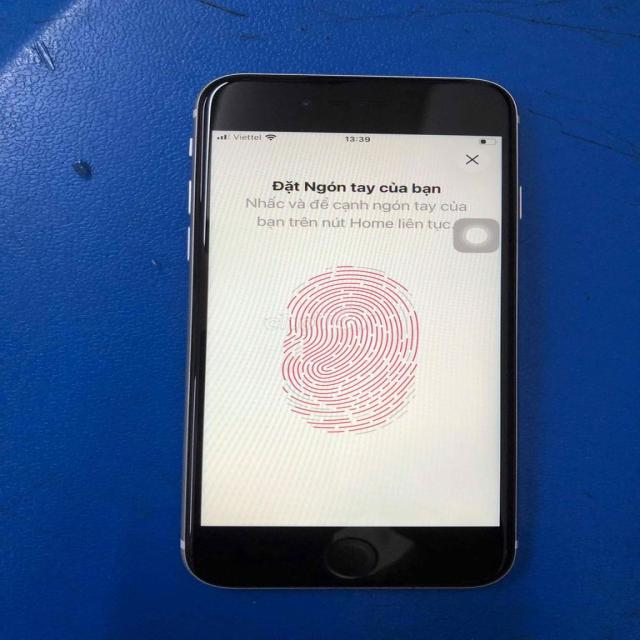gen_7_8: (182, 74, 520, 588)
